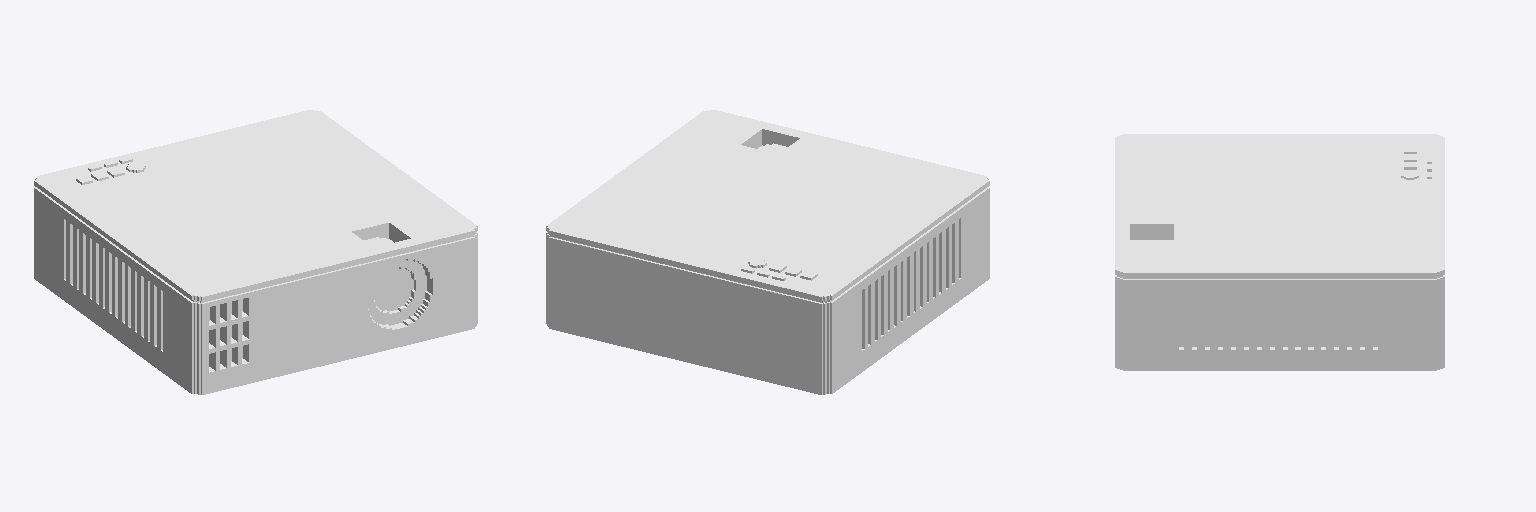
The model's file is Projetor.obj.
3 renders of one model, left to right at view 1: azimuth 30°, elevation 25°; view 2: azimuth 150°, elevation 25°; view 3: azimuth 270°, elevation 25°, orthographic.
Parts seen in each view (by area): view 1: object 1; view 2: object 1; view 3: object 1.
Boxes of the visible parts, <box> form: object 1: <box>34,110,477,394</box>; object 1: <box>546,110,989,394</box>; object 1: <box>1115,134,1444,370</box>.
Size of the model in its own units: 12.8 by 4.7 by 12.8.